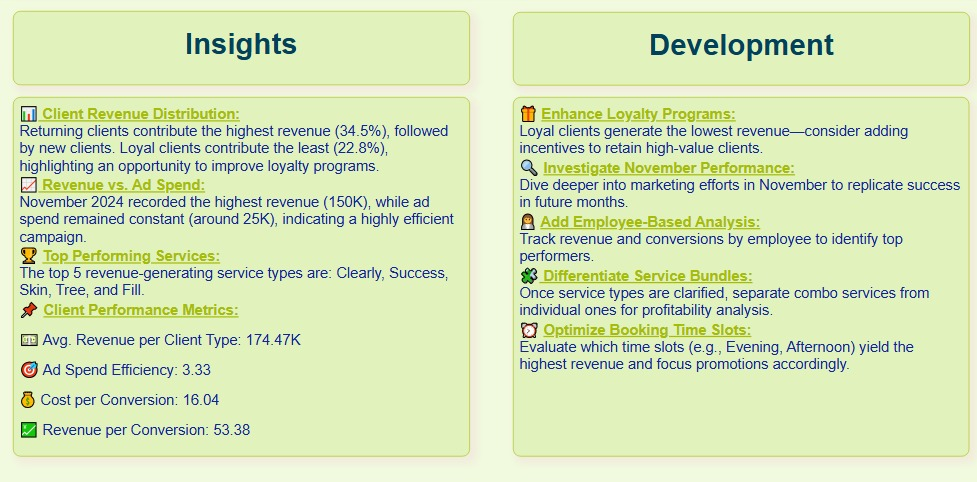

Layout of this report page (visuals, bound fields, positions):
{"tool":"powerbi","page":{"name":"Insight & Development","canvas":[1600,800],"ordinal":1},"visuals":[{"type":"textbox","box":[26.8,25,745.6,121.3],"z":0},{"type":"textbox","box":[841.9,26.8,745.6,119.5],"z":1000},{"type":"textbox","box":[26.8,164.1,745.6,586.8],"z":2000},{"type":"textbox","box":[841.9,164.1,745,586.8],"z":3000}]}

Visuals, with their boxes in screenshot pixels (x1, y1, x2, y2), scaled from the page's 1600x800 canvas onto the 977x482 screenshot:
textbox: BBox(16, 15, 472, 88)
textbox: BBox(514, 16, 969, 88)
textbox: BBox(16, 99, 472, 452)
textbox: BBox(514, 99, 969, 452)
